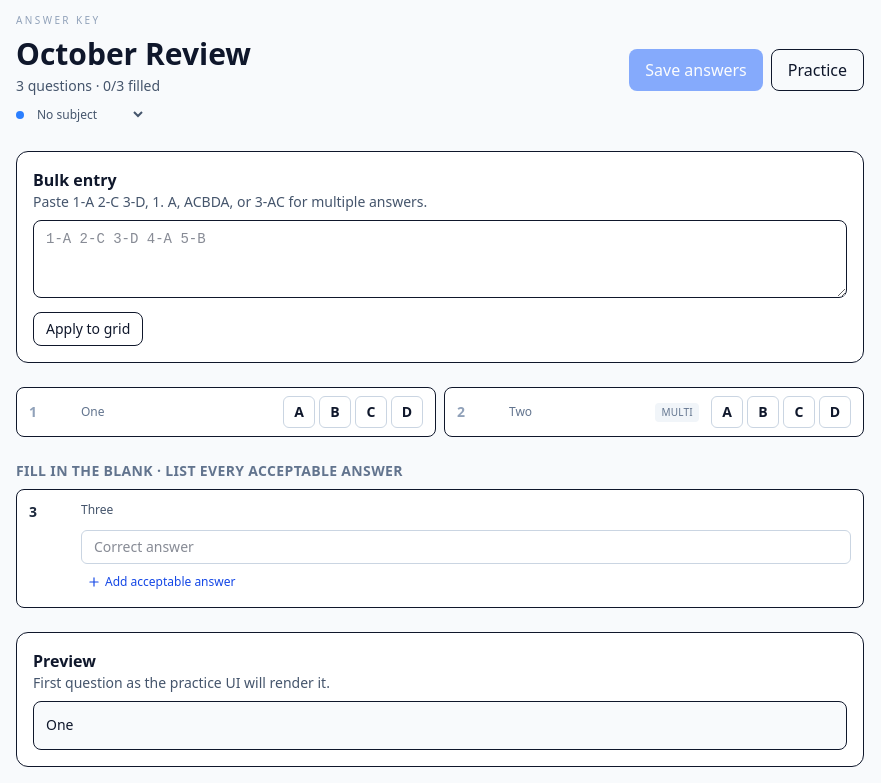
Test: AnswerKeyPage › adds another acceptable blank answer
Expected: the heading "October Review" is shown, [16,36,251,72]
Click the button "Add acceptable answer": [161, 582] box [81,570,241,594]
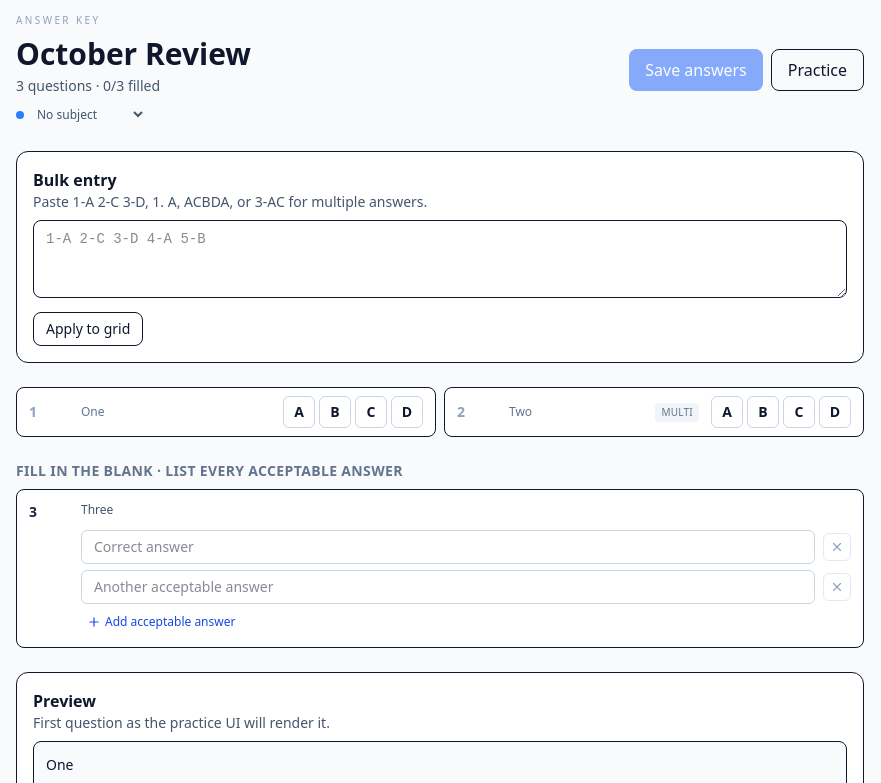
Expected: the field named "Accepted answer 2 for question 3" is shown, [81,570,815,604]
